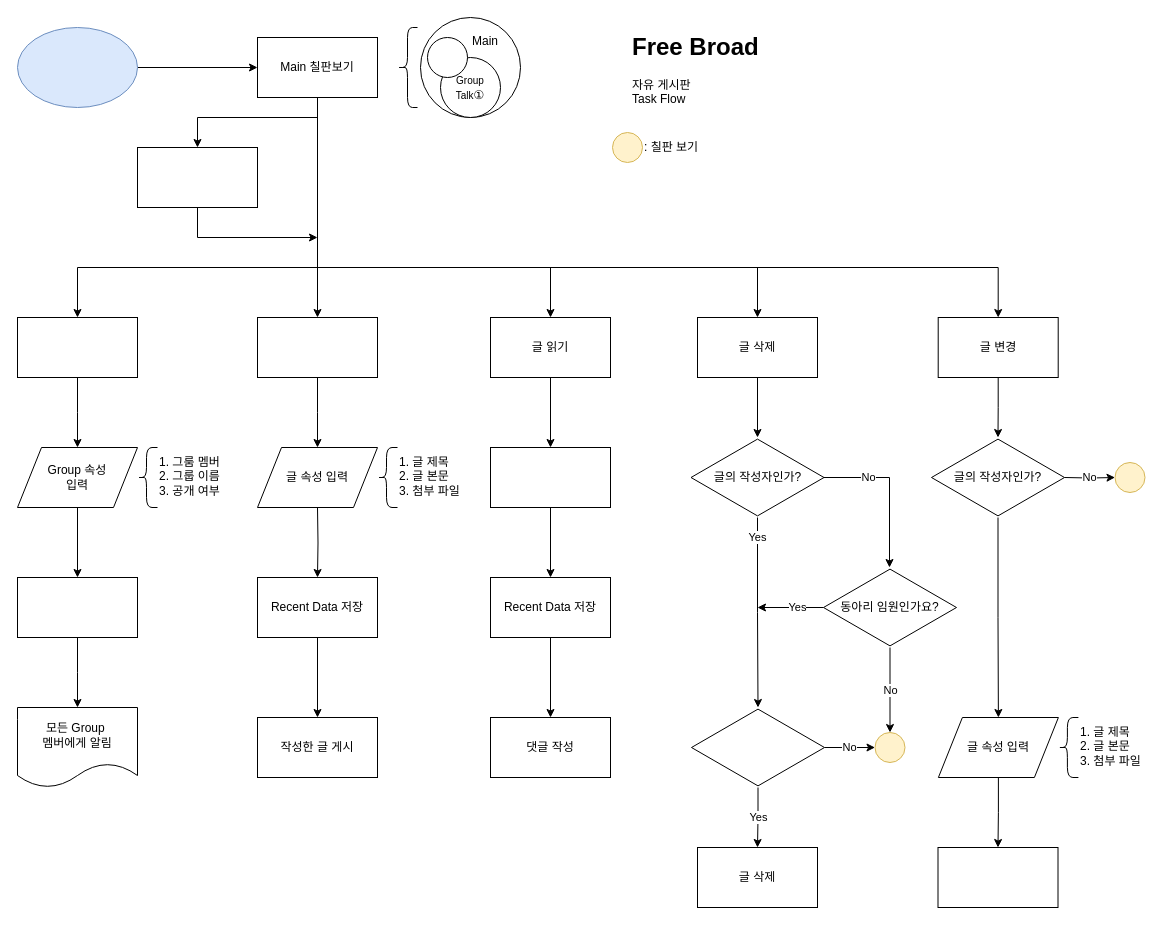
The diagram is 1176 pixels wide and 925 high, and some of its shapes have lost their labels. Each missing label, with the centre of its shape:
"Group Talk②" goes at [447,57].
"Group 만들기" goes at [77,347].
"Group 생성" goes at [77,607].
"Group 선택" goes at [197,177].
"글 속성 변경 완료" goes at [997,877].
"글 쓰기" goes at [317,347].
"댓글 쓰기" goes at [550,477].
"동아리 칠판" goes at [77,67].
"정말로 삭제 하십니까?" goes at [757,747].
